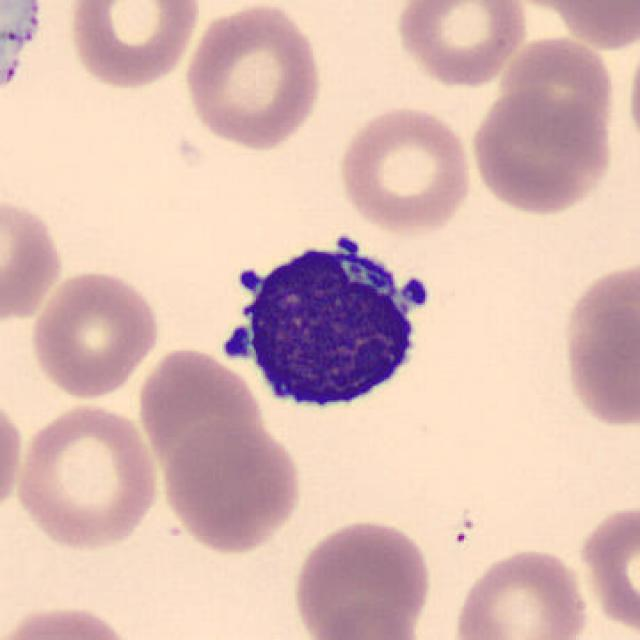Lymphocyte: (208, 224, 443, 423)
RBC: (10, 398, 162, 554), (180, 0, 326, 152), (125, 352, 272, 498), (156, 418, 306, 555), (466, 86, 617, 217), (334, 102, 476, 236), (27, 266, 164, 402), (288, 515, 436, 638), (496, 30, 619, 153), (555, 254, 638, 434), (450, 545, 594, 640), (62, 0, 204, 92), (391, 0, 532, 90), (0, 190, 68, 332), (572, 497, 640, 637), (0, 599, 142, 640), (548, 0, 638, 53), (305, 604, 430, 640), (0, 390, 27, 522), (624, 28, 640, 166)
